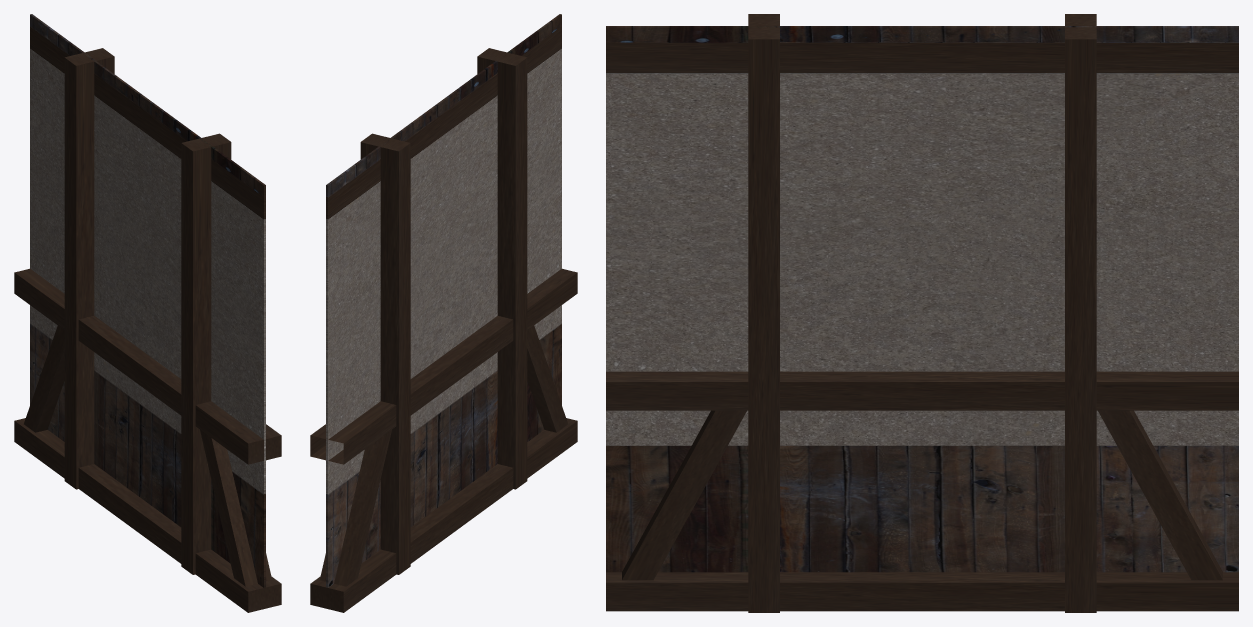
Rendered from OutdoorArchitecture_BasicWall01_NoEdges_BShortt.fbx.
3 views of the same model, side by side, from view 1: azimuth 30°, elevation 25°; view 2: azimuth 150°, elevation 25°; view 3: azimuth 270°, elevation 25° (orthographic). The views are drawn at different scales.
Visible parts, largest first — view 1: OutdoorArchitecture_BasicWall01_NoEdges_BShortt; view 2: OutdoorArchitecture_BasicWall01_NoEdges_BShortt; view 3: OutdoorArchitecture_BasicWall01_NoEdges_BShortt.
Boxes of the visible parts, x1,y1,x2,y2 form: OutdoorArchitecture_BasicWall01_NoEdges_BShortt: [14, 14, 281, 612]; OutdoorArchitecture_BasicWall01_NoEdges_BShortt: [310, 14, 577, 612]; OutdoorArchitecture_BasicWall01_NoEdges_BShortt: [606, 14, 1238, 612].
Bounding box in the file's own units: 28.5 × 300 × 300.
